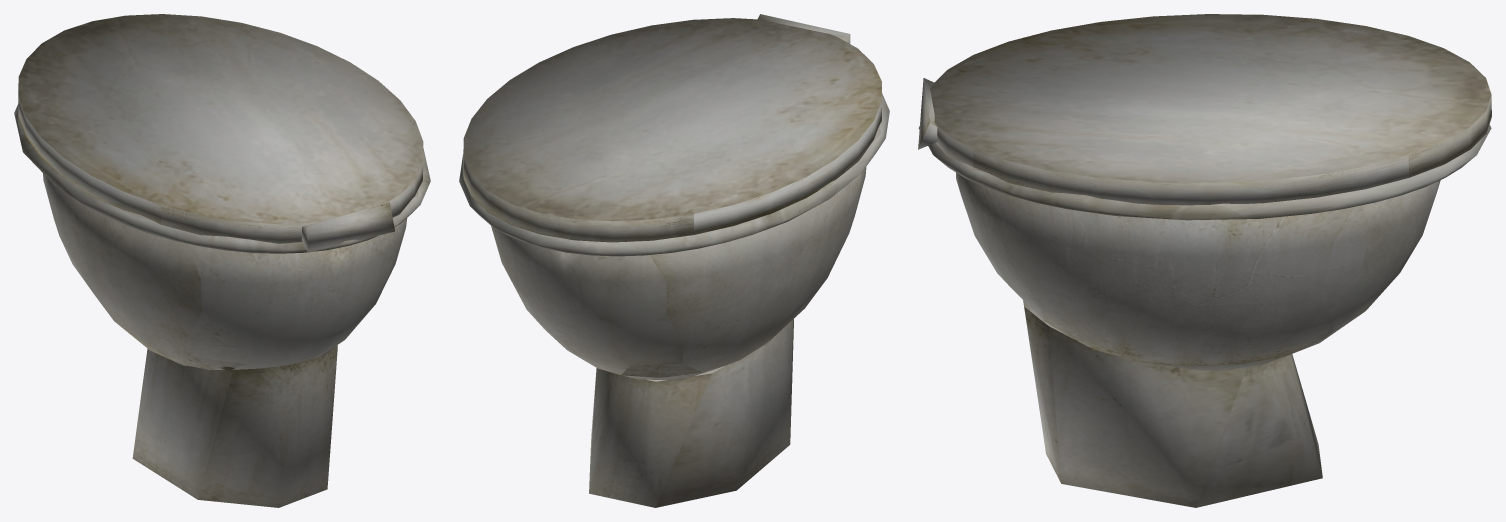
Rendered from Toilet.fbx.
3 renders of one model, left to right at view 1: azimuth 30°, elevation 25°; view 2: azimuth 150°, elevation 25°; view 3: azimuth 270°, elevation 25°, orthographic. The views are drawn at different scales.
Visible parts, largest first — view 1: Cylinder.001, Sphere, Cylinder, Torus, Cylinder.002; view 2: Cylinder.001, Sphere, Cylinder, Torus, Cylinder.002; view 3: Cylinder.001, Sphere, Cylinder, Torus, Cylinder.002.
Part boxes in pixels (left/top/right/bottom): Cylinder.001: left=18, top=14, right=423, bottom=243; Sphere: left=43, top=173, right=407, bottom=369; Cylinder: left=132, top=345, right=337, bottom=507; Torus: left=14, top=104, right=430, bottom=253; Cylinder.002: left=301, top=202, right=394, bottom=252; Cylinder.001: left=463, top=18, right=881, bottom=242; Sphere: left=491, top=167, right=866, bottom=380; Cylinder: left=589, top=319, right=793, bottom=507; Torus: left=459, top=93, right=889, bottom=256; Cylinder.002: left=758, top=14, right=850, bottom=43; Cylinder.001: left=930, top=14, right=1491, bottom=205; Sphere: left=956, top=172, right=1440, bottom=370; Cylinder: left=1023, top=300, right=1322, bottom=507; Torus: left=918, top=124, right=1491, bottom=220; Cylinder.002: left=918, top=78, right=937, bottom=149.
Bounding box in the file's own units: 4.17 × 4.1 × 5.79.
Materials: 1 (1 with a texture image).
